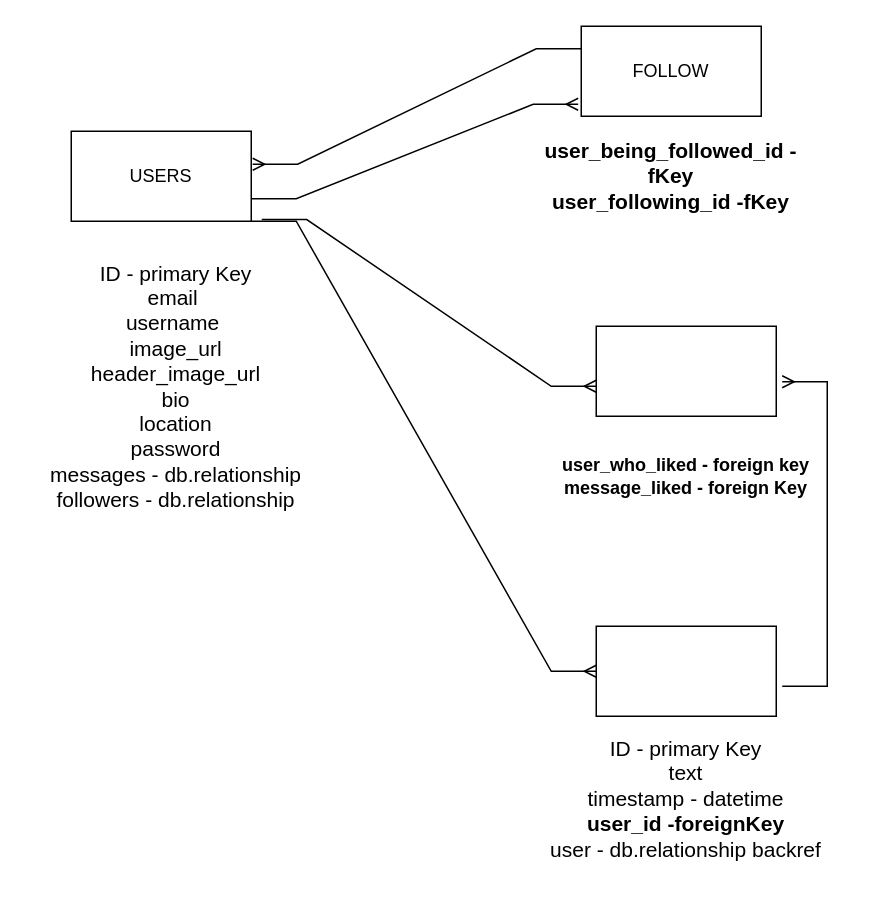
Some shapes in this 876 by 923 pixel diagram are drawn without their labels. The shapes that lost their labels are listed below. From the top down, each one's centre as x and y in pixels, then its label:
At (685,370): "LIKED".
At (685,670): "MESSAGES".
